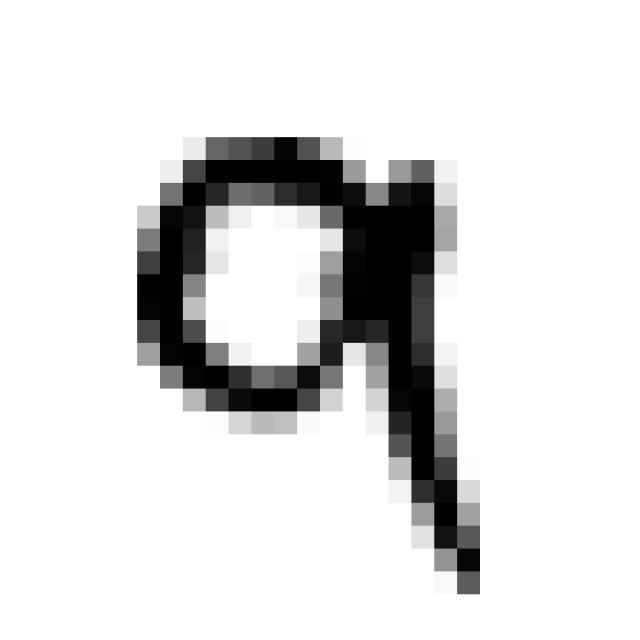9 -nine-: (110, 108, 507, 616)
